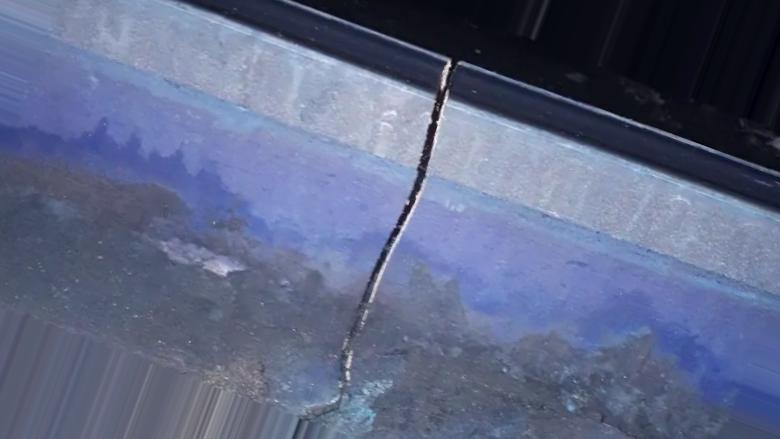tracks_fault: (309, 38, 478, 410)
